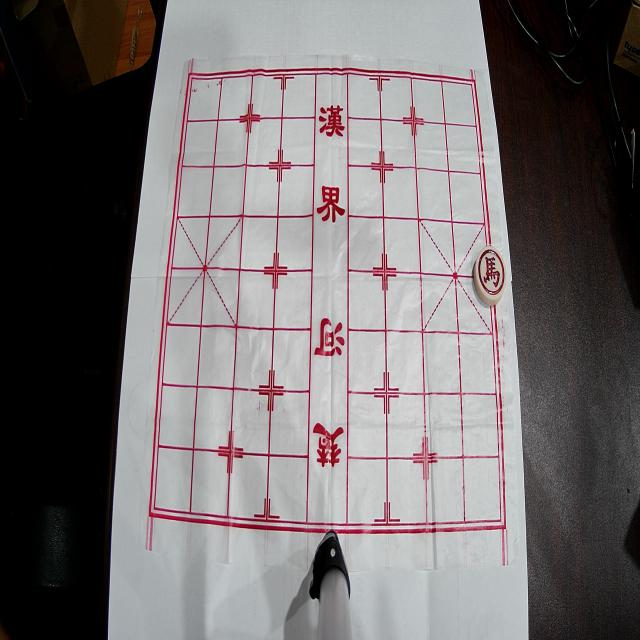red-horse: (474, 247, 506, 306)
